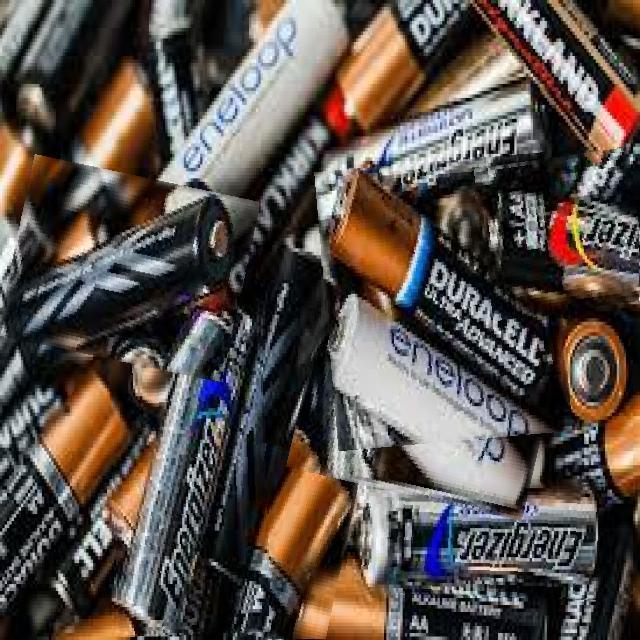Battery: (0, 0, 640, 632)
